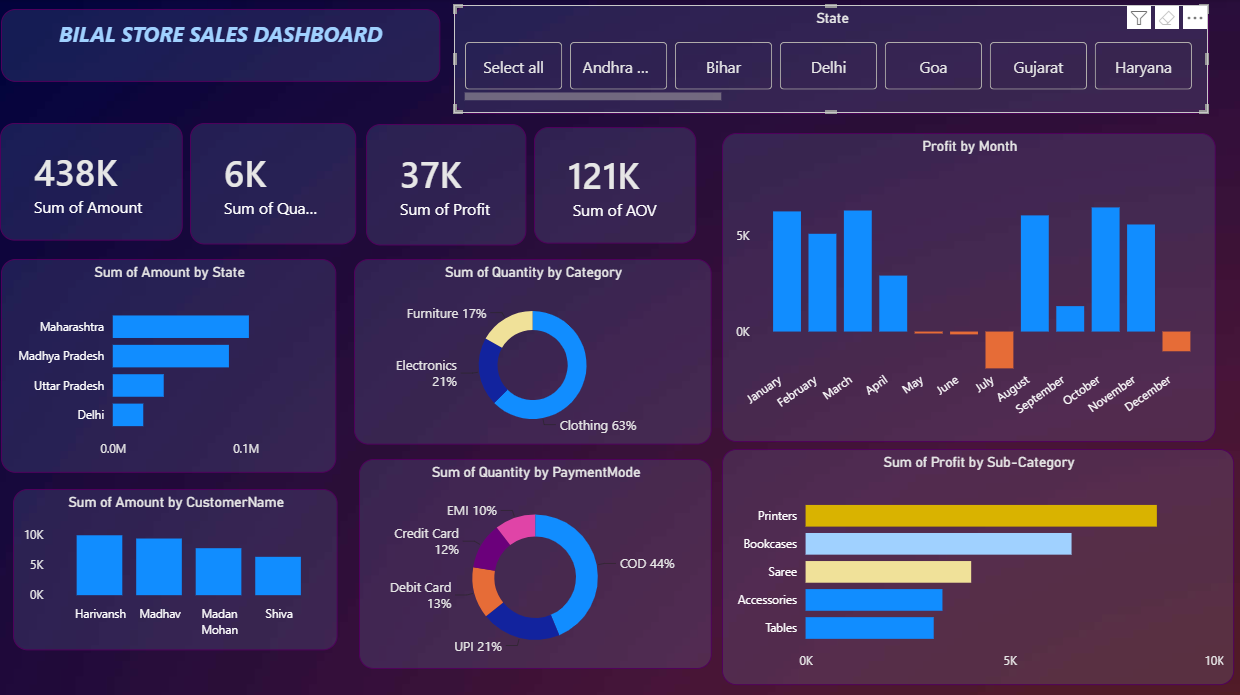

Layout of this report page (visuals, bound fields, positions):
{"tool":"powerbi","page":{"name":"Page 1","canvas":[1280,720],"ordinal":0},"visuals":[{"type":"textbox","box":[3.6,10.7,452,74.9],"z":0},{"type":"columnChart","title":" Profit by Month","fields":{"Category":["Orders.Order Date.Variation.Date Hierarchy.Month"],"Y":["Sum(Details.Profit)"]},"box":[744.7,138,508,317.6],"z":1000},{"type":"barChart","fields":{"Category":["Details.Sub-Category"],"Y":["Sum(Details.Profit)"]},"box":[744.7,462.8,527,242.7],"z":2000},{"type":"donutChart","fields":{"Category":["Details.Category"],"Y":["Sum(Details.Quantity)"]},"box":[366.2,267.5,367.5,191.2],"z":3000},{"type":"donutChart","fields":{"Y":["Sum(Details.Quantity)"],"Category":["Details.PaymentMode"]},"box":[371.2,473.8,362.5,216.2],"z":4000},{"type":"cardVisual","fields":{"Data":["Sum(Details.Amount)"]},"box":[2.4,127.3,188,121.3],"z":5000},{"type":"cardVisual","fields":{"Data":["Sum(Details.Quantity)"]},"box":[197.5,127.3,171.3,124.9],"z":6000},{"type":"cardVisual","fields":{"Data":["Sum(Details.Profit)"]},"box":[378.3,128.5,165.4,124.9],"z":7000},{"type":"cardVisual","fields":{"Data":["Sum(Details.AOV)"]},"box":[552,132,166.5,120.1],"z":8000},{"type":"barChart","fields":{"Category":["Orders.State"],"Y":["Sum(Details.Amount)"]},"box":[3.6,267.7,345,220.1],"z":9000},{"type":"columnChart","fields":{"Category":["Orders.CustomerName"],"Y":["Sum(Details.Amount)"]},"box":[15,503.8,333.8,166.2],"z":10000},{"type":"advancedSlicerVisual","fields":{"Values":["Orders.State"]},"box":[468.7,5.9,776.8,111.8],"z":11000}]}

Visuals, with their boxes in screenshot pixels (x1, y1, x2, y2), scaled from the page's 1280x720 canvas onto the 1240x695 screenshot:
textbox: box=[3, 10, 441, 83]
" Profit by Month" columnChart: box=[721, 133, 1214, 440]
barChart - Details.Sub-Category x Sum(Details.Profit): box=[721, 447, 1232, 681]
donutChart - Details.Category x Sum(Details.Quantity): box=[355, 258, 711, 443]
donutChart - Sum(Details.Quantity) x Details.PaymentMode: box=[360, 457, 711, 666]
cardVisual - Sum(Details.Amount): box=[2, 123, 184, 240]
cardVisual - Sum(Details.Quantity): box=[191, 123, 357, 243]
cardVisual - Sum(Details.Profit): box=[366, 124, 527, 245]
cardVisual - Sum(Details.AOV): box=[535, 127, 696, 243]
barChart - Orders.State x Sum(Details.Amount): box=[3, 258, 338, 471]
columnChart - Orders.CustomerName x Sum(Details.Amount): box=[15, 486, 338, 647]
advancedSlicerVisual - Orders.State: box=[454, 6, 1207, 114]
